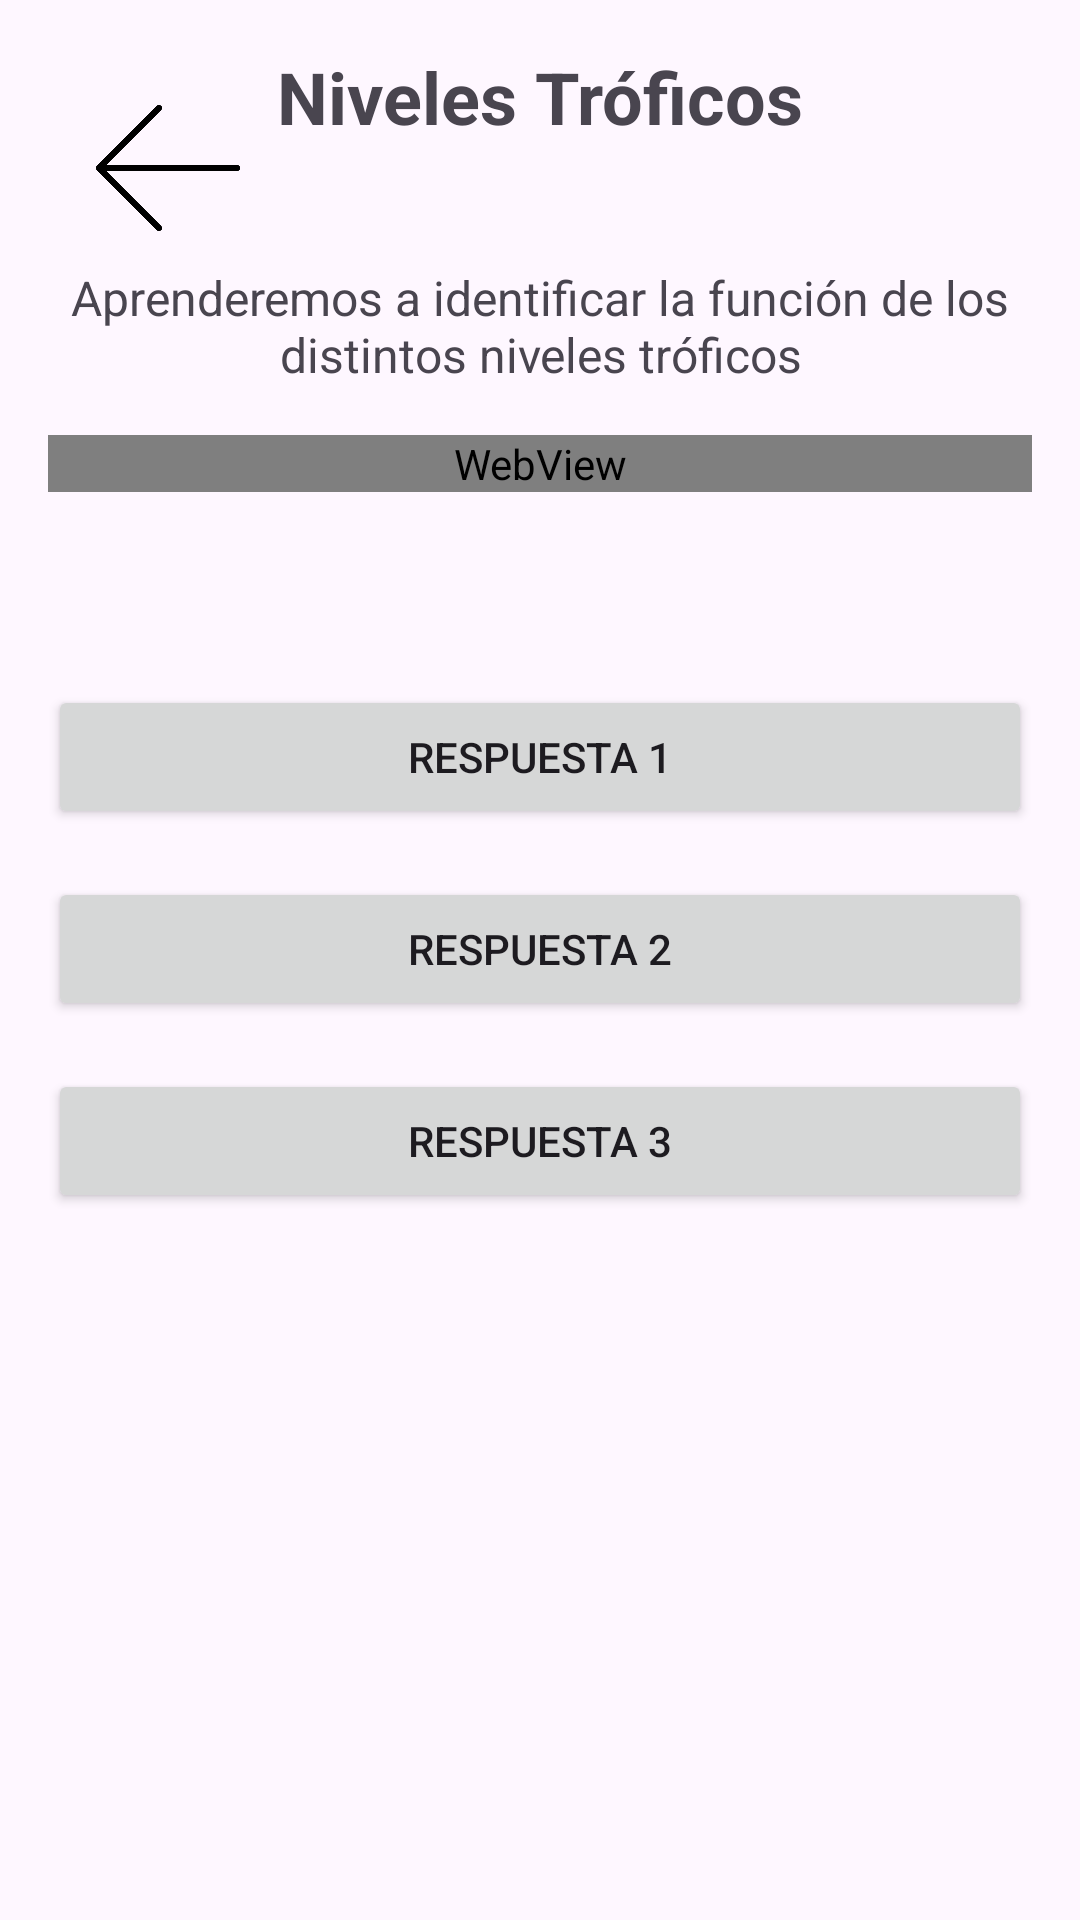

Icons on this 1080px×1920px Android screen, each with the point to tap as (x=x, y=y):
Botón de volver: (x=168, y=168)
